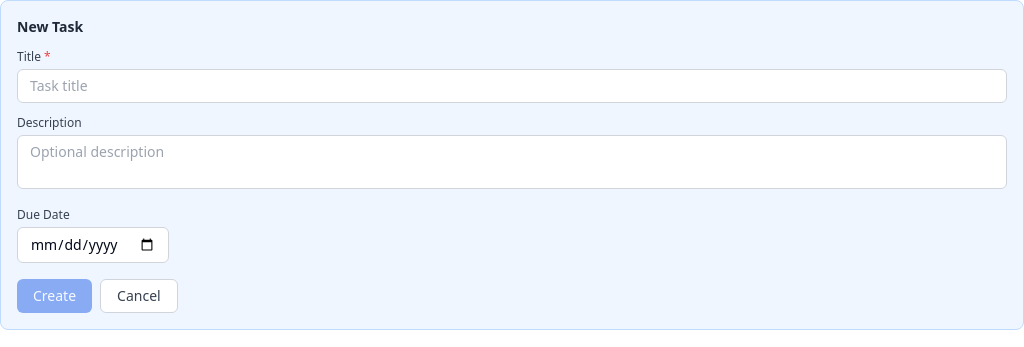
Test case: TaskCreateForm › enables the Create button once a title is typed
In the field with placeholder "Task title": (512, 86) [17, 69, 1007, 103], type "Write tests"
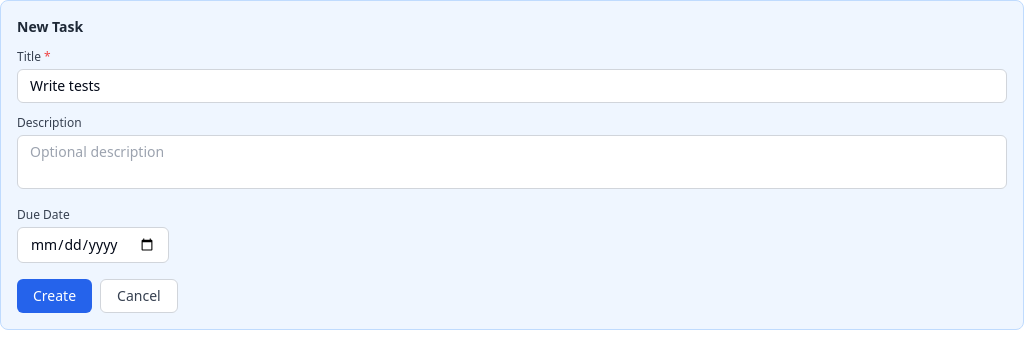
Expected: the button "Create" is enabled, [17, 279, 92, 313]
